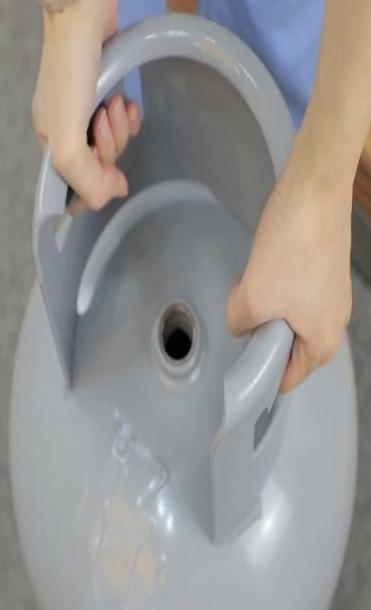cylinder: (1, 0, 371, 610)
